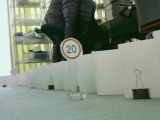speed_20: (58, 37, 84, 60)
